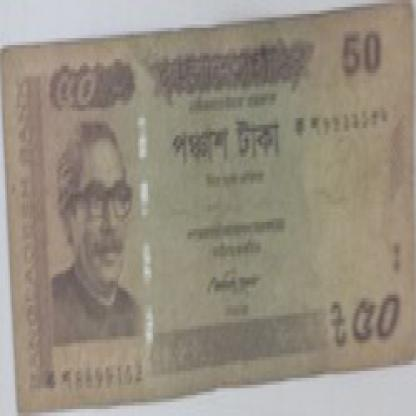Fifty taka: (350, 288, 402, 364), (49, 70, 112, 128)
